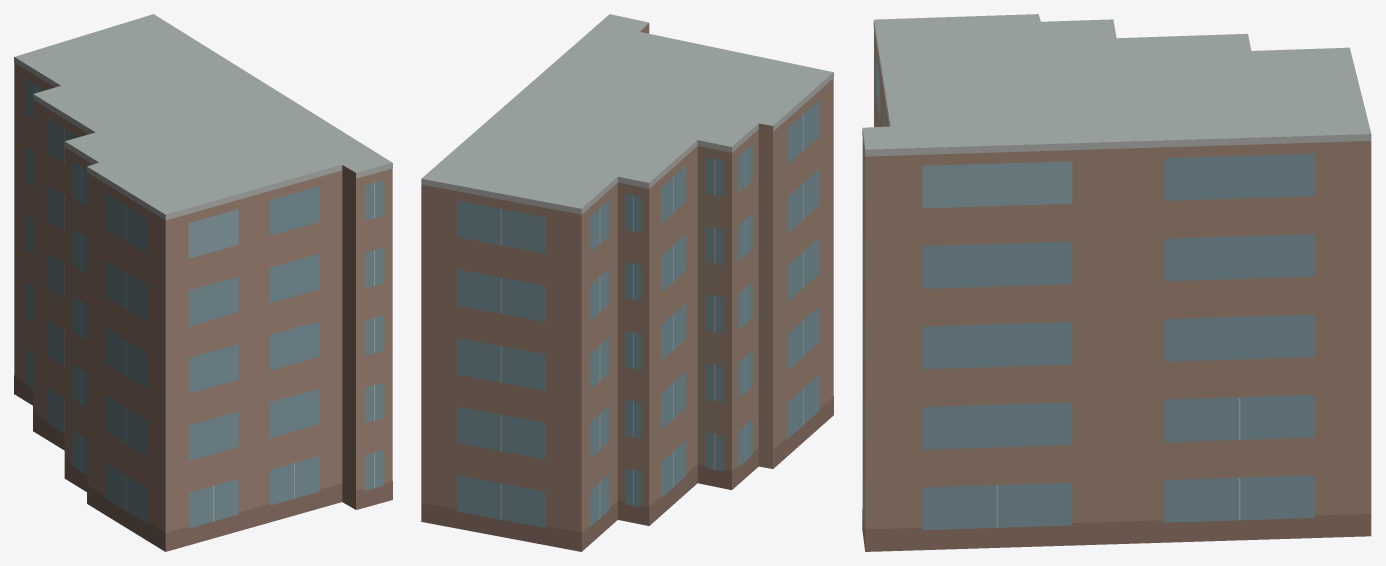
The model's file is survey-upis-32700638.glb.
3 views of the same model, side by side, from view 1: azimuth 30°, elevation 25°; view 2: azimuth 150°, elevation 25°; view 3: azimuth 270°, elevation 25° (orthographic). The views are drawn at different scales.
Visible parts, largest first — view 1: survey-upis-32700638.tmp; view 2: survey-upis-32700638.tmp; view 3: survey-upis-32700638.tmp.
Boxes of the visible parts, x1,y1,x2,y2 form: survey-upis-32700638.tmp: [14, 14, 392, 551]; survey-upis-32700638.tmp: [421, 14, 833, 551]; survey-upis-32700638.tmp: [862, 14, 1371, 551].
Bounding box in the file's own units: 10.4 × 14.35 × 16.47.
